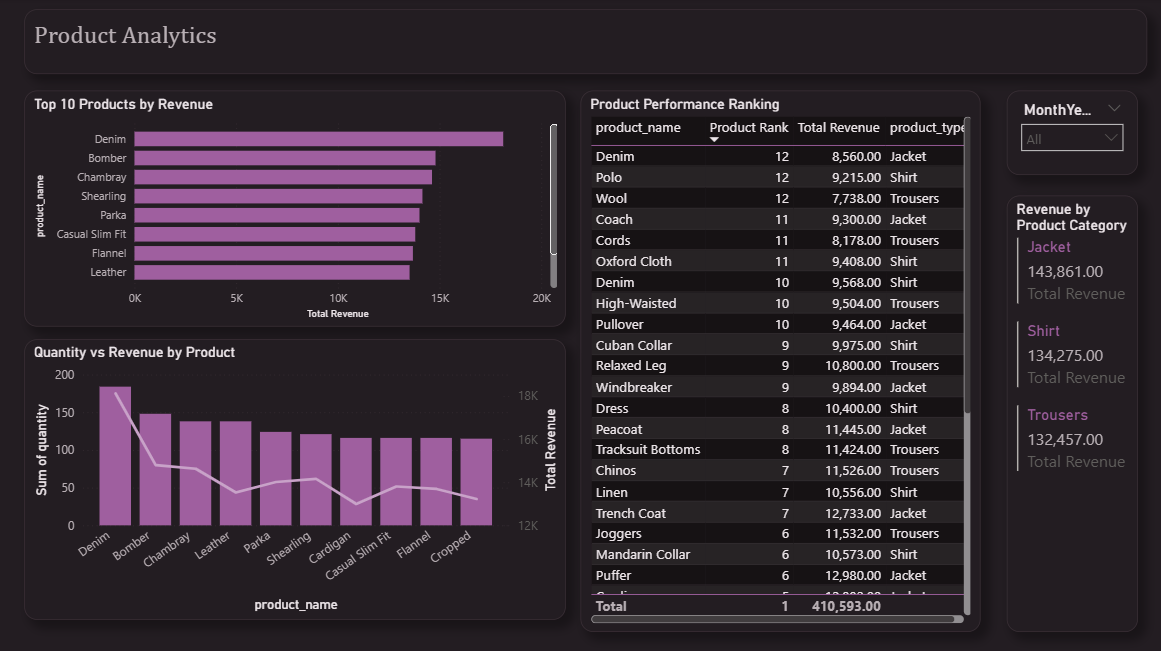

The page's visual inventory and layout, read from the dashboard file:
{"tool":"powerbi","page":{"name":"Product Analytics","canvas":[1280,720],"ordinal":2},"visuals":[{"type":"barChart","title":"Top 10 Products by Revenue","fields":{"Category":["products.product_name"],"Y":["_measures.Total Revenue"]},"box":[28.5,101.2,594.4,259.4],"z":0},{"type":"textbox","box":[28.5,12.8,1233,71.3],"z":1000},{"type":"multiRowCard","title":"Revenue by Product Category","fields":{"Values":["products.product_type","_measures.Total Revenue"]},"box":[1107.5,216.7,144,478.9],"z":2000},{"type":"tableEx","title":"Product Performance Ranking","fields":{"Values":["products.product_name","_measures.Product Rank","_measures.Total Revenue","products.product_type"]},"box":[640,101.2,439,594.4],"z":3000},{"type":"lineClusteredColumnComboChart","title":"Quantity vs Revenue by Product","fields":{"Category":["products.product_name"],"Y":["Sum(sales.quantity)"],"Y2":["_measures.Total Revenue"]},"box":[28.5,374.9,594.4,307.9],"z":4000},{"type":"slicer","fields":{"Values":["DateTable.MonthYear"]},"box":[1107.5,101.2,144,92.7],"z":5000}]}

Visuals, with their boxes in screenshot pixels (x1, y1, x2, y2), scaled from the page's 1280x720 canvas onto the 1161x651 screenshot:
"Top 10 Products by Revenue" barChart: 26/92/565/326
textbox: 26/12/1144/76
"Revenue by Product Category" multiRowCard: 1005/196/1135/629
"Product Performance Ranking" tableEx: 580/92/979/629
"Quantity vs Revenue by Product" lineClusteredColumnComboChart: 26/339/565/617
slicer - DateTable.MonthYear: 1005/92/1135/175
